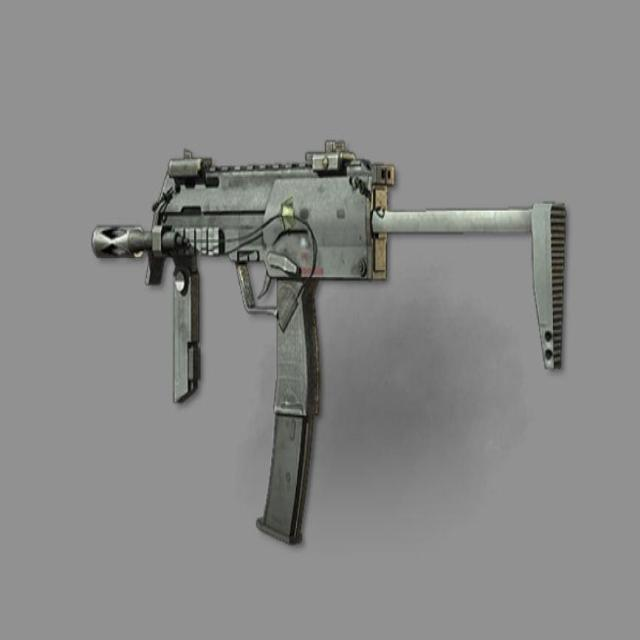weapon: (82, 144, 571, 548)
